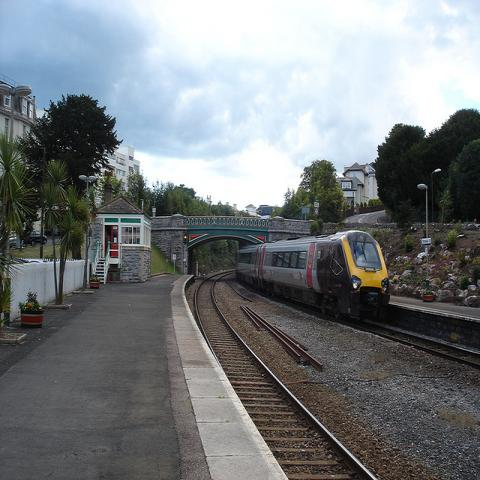car: (24, 230, 48, 246), (9, 231, 20, 247)
